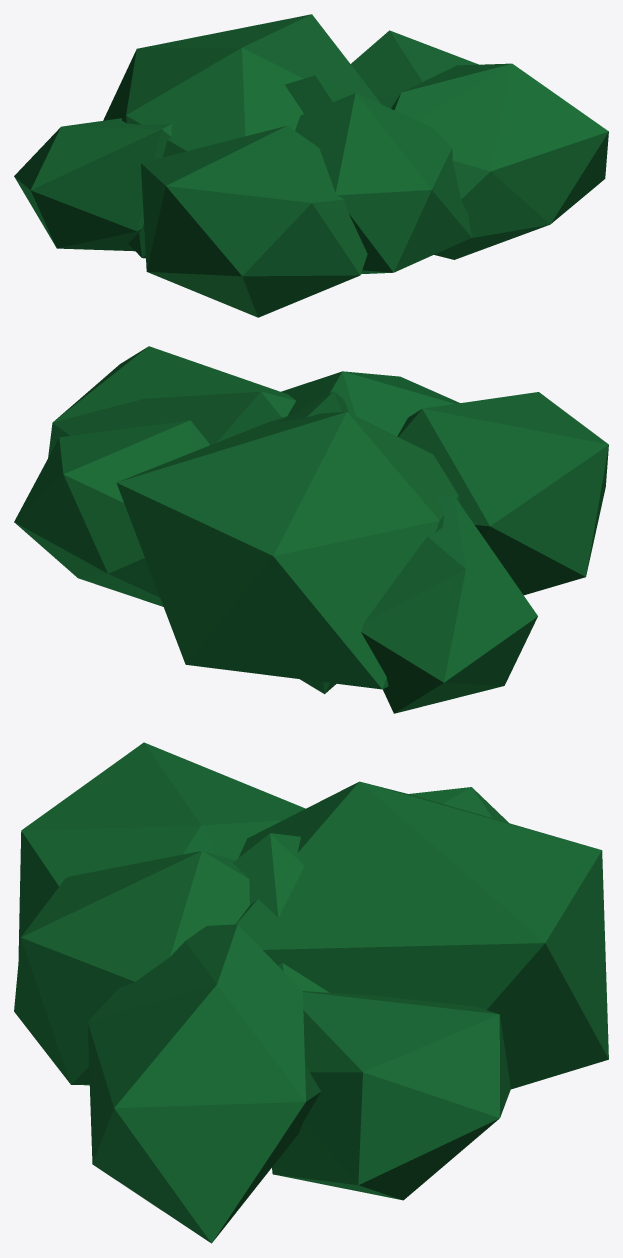
Rendered from Bushes.fbx.
The picture shows the model from 3 angles, top to bottom: view 1: azimuth 30°, elevation 25°; view 2: azimuth 150°, elevation 25°; view 3: azimuth 270°, elevation 25°; orthographic projection. The views are drawn at different scales.
Visible parts, largest first — view 1: bush1, bush2, bushSmall; view 2: bush1, bush2, bushSmall; view 3: bush1, bush2, bushSmall.
Part boxes in pixels (x1,y1,x2,y2): bush1: (103,14,478,317); bush2: (14,63,608,259); bushSmall: (295,93,471,274); bush1: (14,392,608,689); bush2: (48,346,537,713); bushSmall: (281,371,460,436); bush1: (18,742,608,1200); bush2: (87,787,508,1243); bushSmall: (14,851,249,1085).
Bounding box in the file's own units: 519 × 227 × 372.
